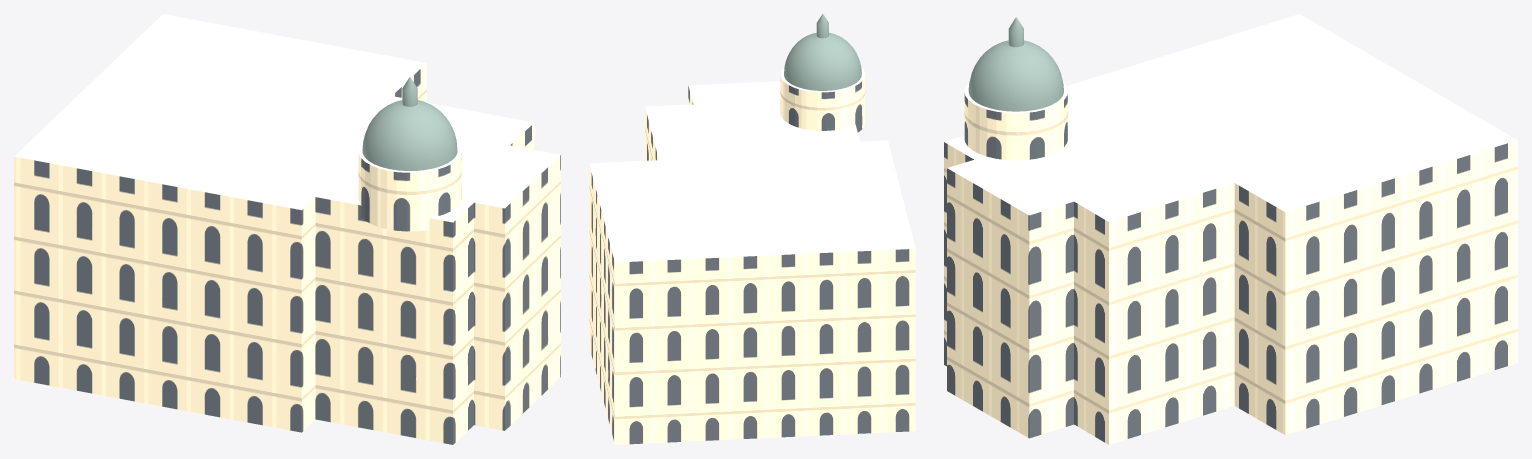
File: landmark-puppet-theatre.glb
3 renders of one model, left to right at view 1: azimuth 30°, elevation 25°; view 2: azimuth 150°, elevation 25°; view 3: azimuth 270°, elevation 25°, orthographic. The views are drawn at different scales.
Parts seen in each view (by area): view 1: puppet-theatre; view 2: puppet-theatre; view 3: puppet-theatre.
Boxes of the visible parts, box(x1,y1,x2,y2) form: puppet-theatre: box(14, 14, 560, 444); puppet-theatre: box(589, 14, 915, 444); puppet-theatre: box(944, 14, 1517, 444).
Size of the model in its own units: 37.91 by 29.2 by 44.19.
3 materials, 1 textured.
